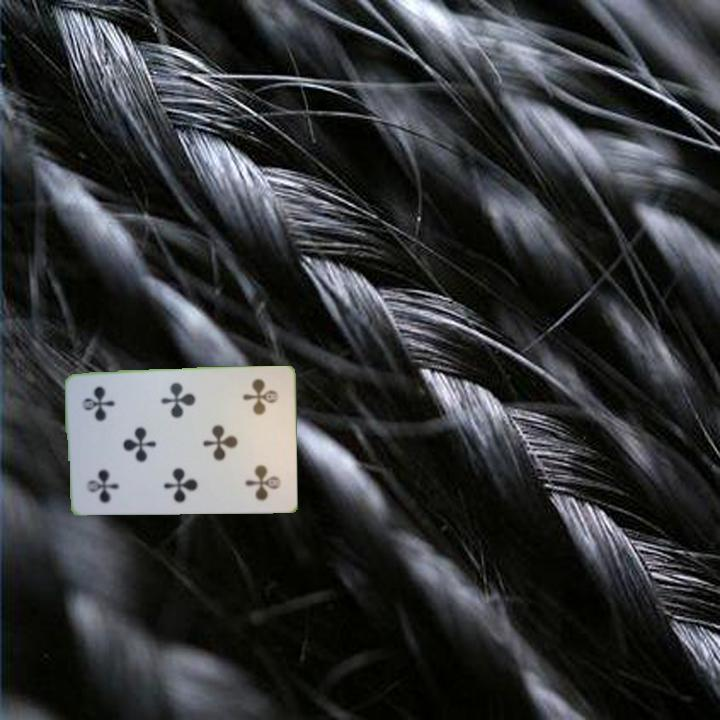c_8.png: (228, 375, 286, 443), (75, 438, 133, 505)
